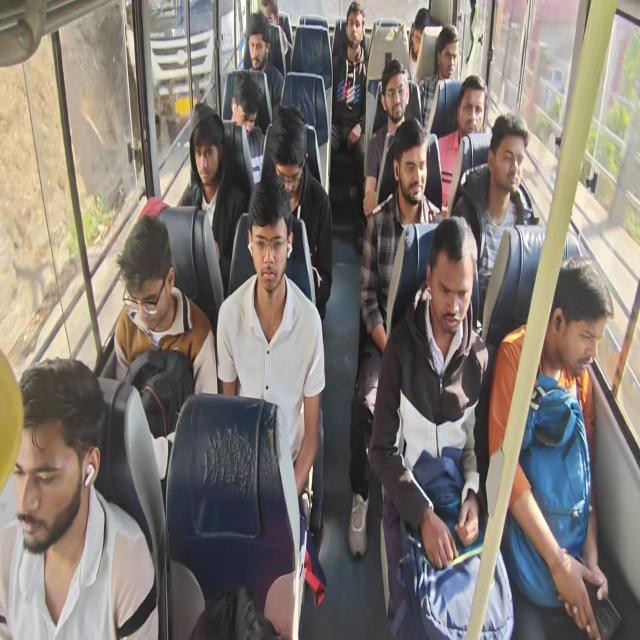person: (0, 356, 109, 546), (545, 262, 612, 390), (123, 217, 179, 328), (247, 198, 293, 302), (427, 231, 472, 333), (491, 126, 533, 209), (272, 106, 310, 195), (395, 130, 431, 208), (231, 74, 265, 134), (194, 114, 221, 187), (456, 84, 488, 142), (437, 28, 462, 86), (381, 70, 406, 125), (247, 19, 266, 77), (252, 0, 282, 36), (345, 6, 362, 56), (409, 12, 427, 57)
